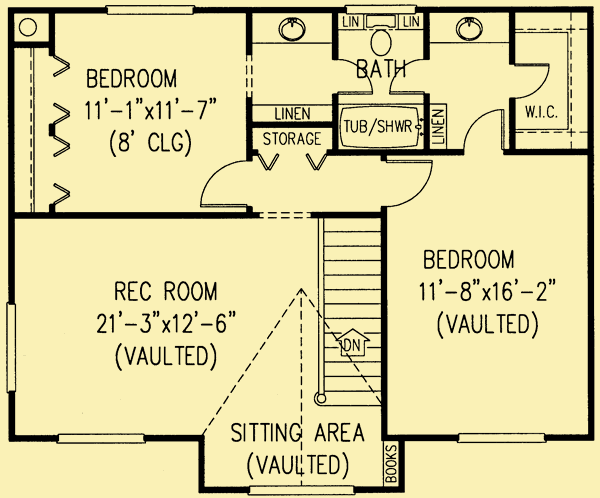door: (195, 156, 253, 211), (385, 157, 438, 209), (459, 106, 508, 158), (328, 52, 377, 98), (509, 60, 554, 98), (387, 57, 429, 95)
large sink: (362, 13, 399, 58)
small sink: (427, 6, 513, 46), (249, 10, 336, 47)
stairs: (315, 214, 387, 411)
tub: (334, 100, 428, 154)
windows: (456, 428, 549, 450), (246, 481, 359, 498), (4, 294, 21, 397), (53, 431, 150, 449), (104, 2, 199, 20)
